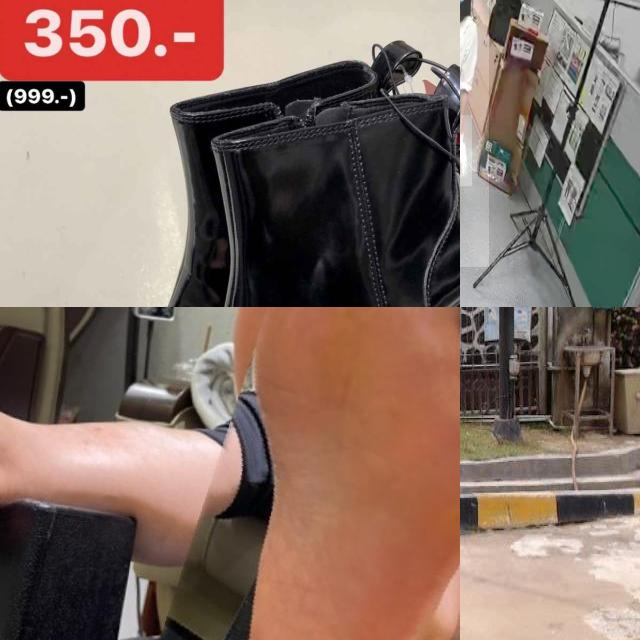Barefoots: (161, 307, 460, 640)
Sandals: (45, 9, 460, 307)
hand_glove: (460, 115, 472, 187)
person: (460, 0, 489, 268)
